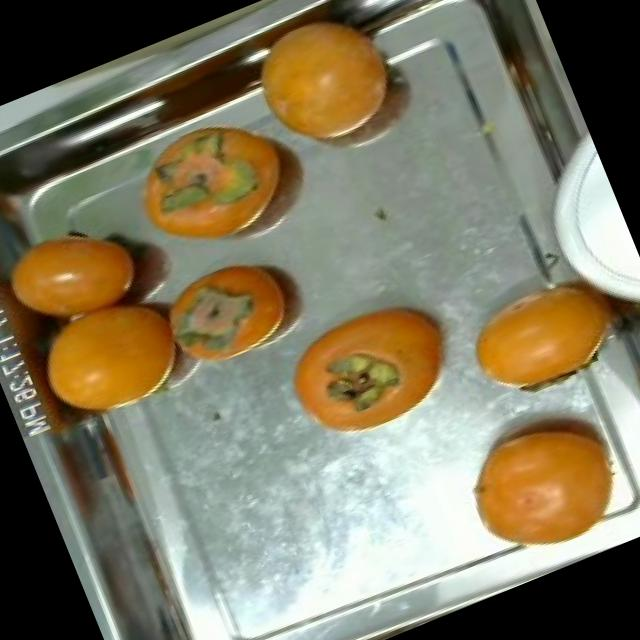Fruit: (104, 90, 335, 286), (260, 267, 490, 462), (220, 0, 443, 195), (434, 375, 640, 581), (435, 236, 640, 426), (13, 268, 208, 435), (142, 224, 331, 386), (0, 193, 165, 357)
